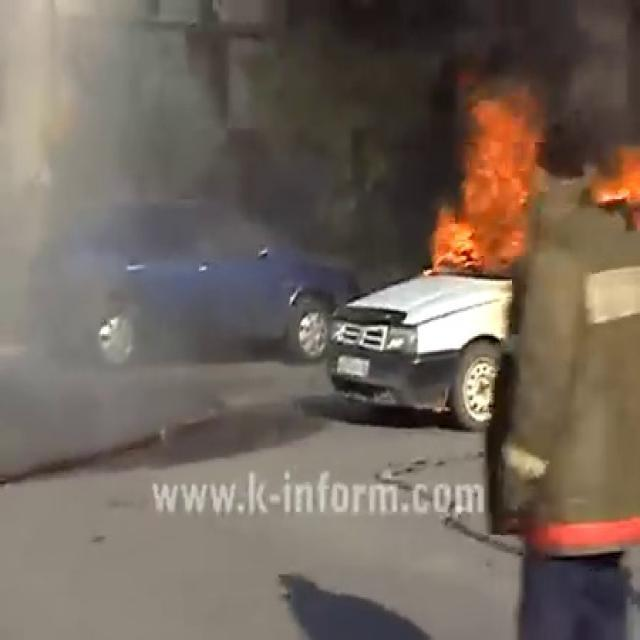Fire: (424, 86, 552, 280), (593, 146, 640, 224)
Smoke: (1, 0, 640, 281)
